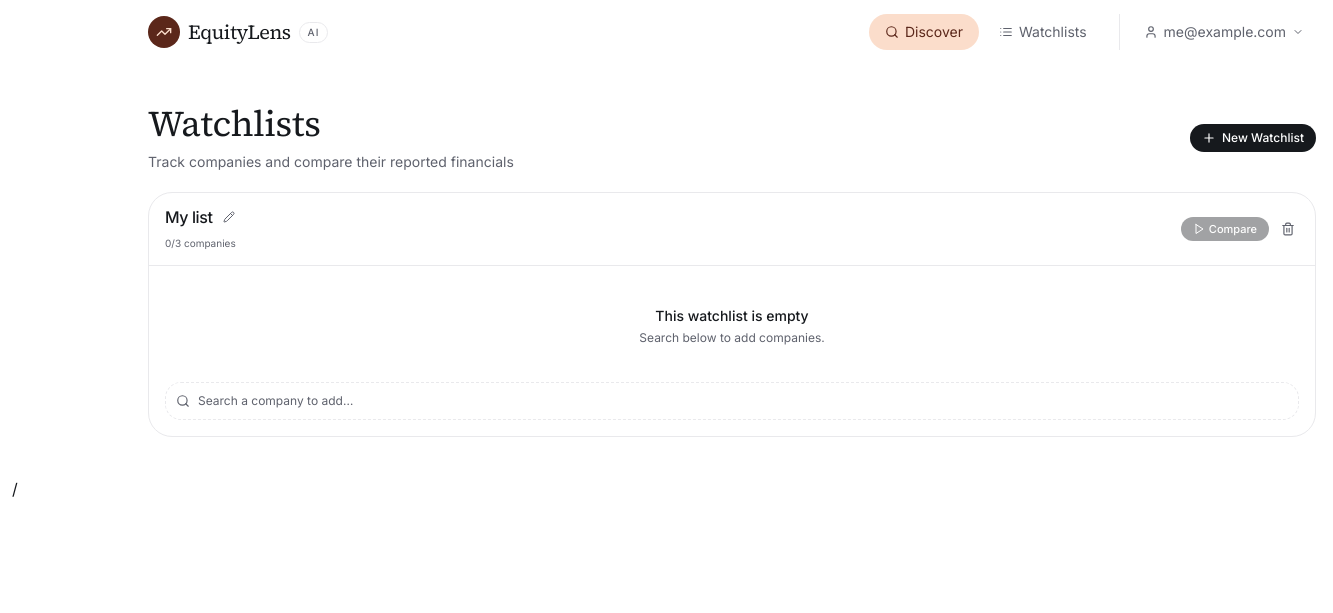
Test: WatchlistsPage › shows a clear error on duplicate add (409) and on the cap (422)
This screenshot has width=1333, height=613.
Expected: the text "This watchlist is empty" is shown, [655,307,809,324]
In the field with placeholder "Search a company to add…": (743, 401) [198,393,1288,409], type "acme"
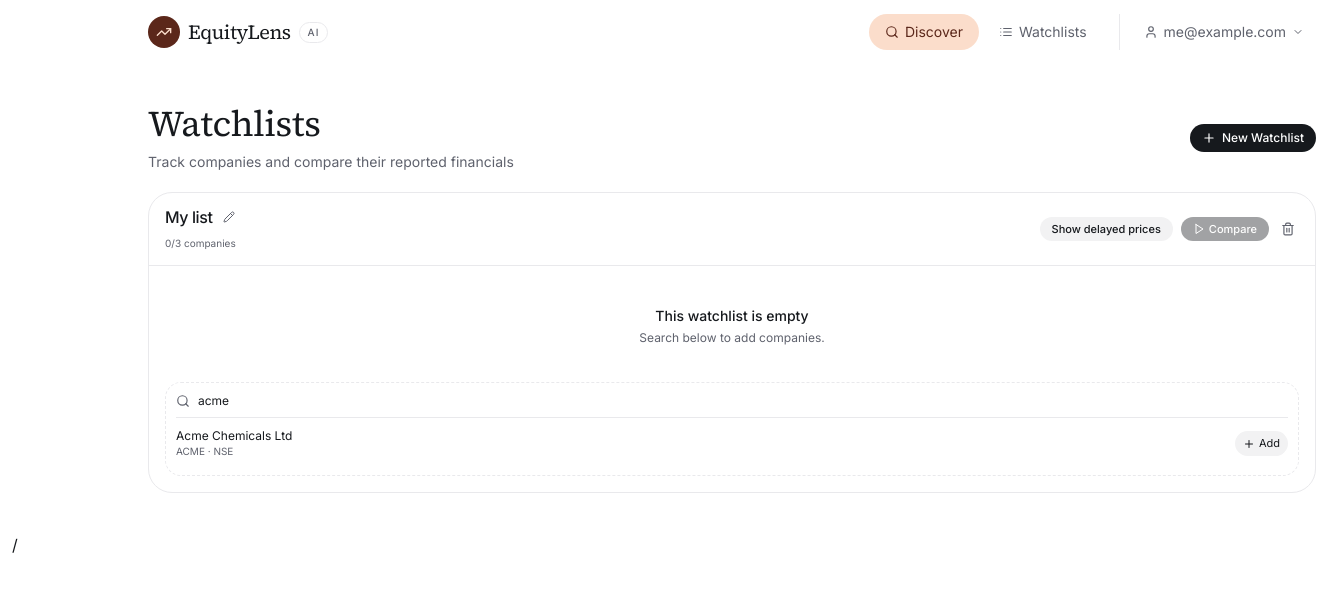
Click the button "Add": (1261, 444) [1235,431,1288,456]
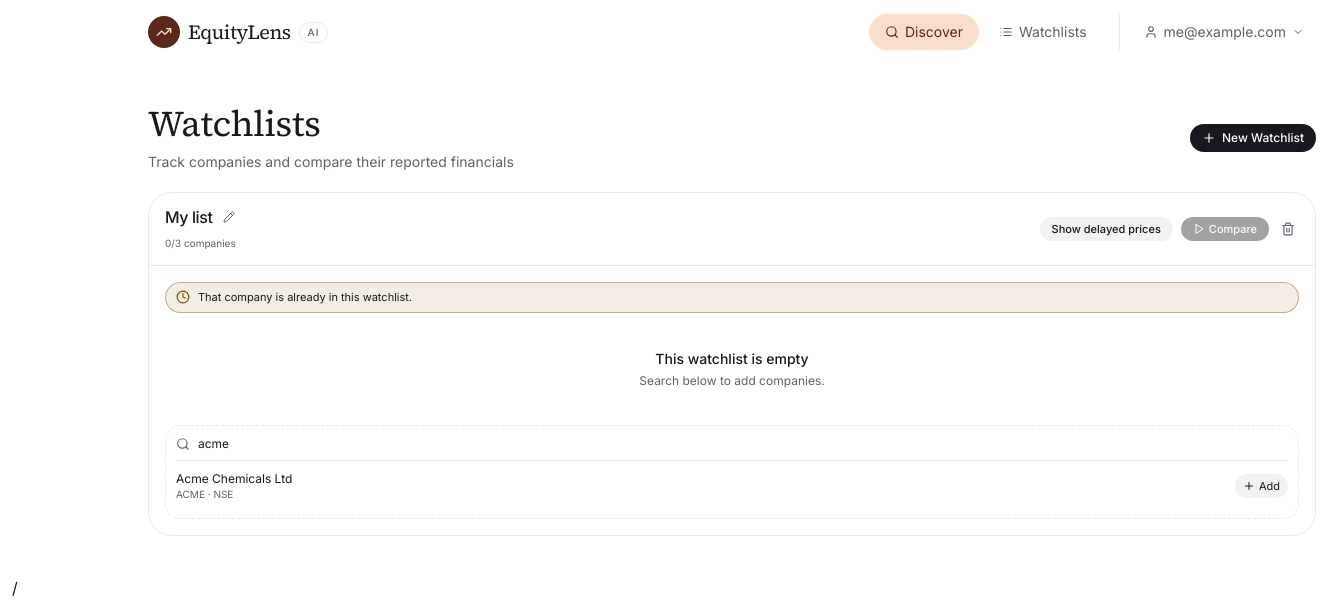
Expected: the text "That company is already in this watchlist." is shown, [198,289,412,306]
Click the button "Add": (1261, 486) [1235,474,1288,498]
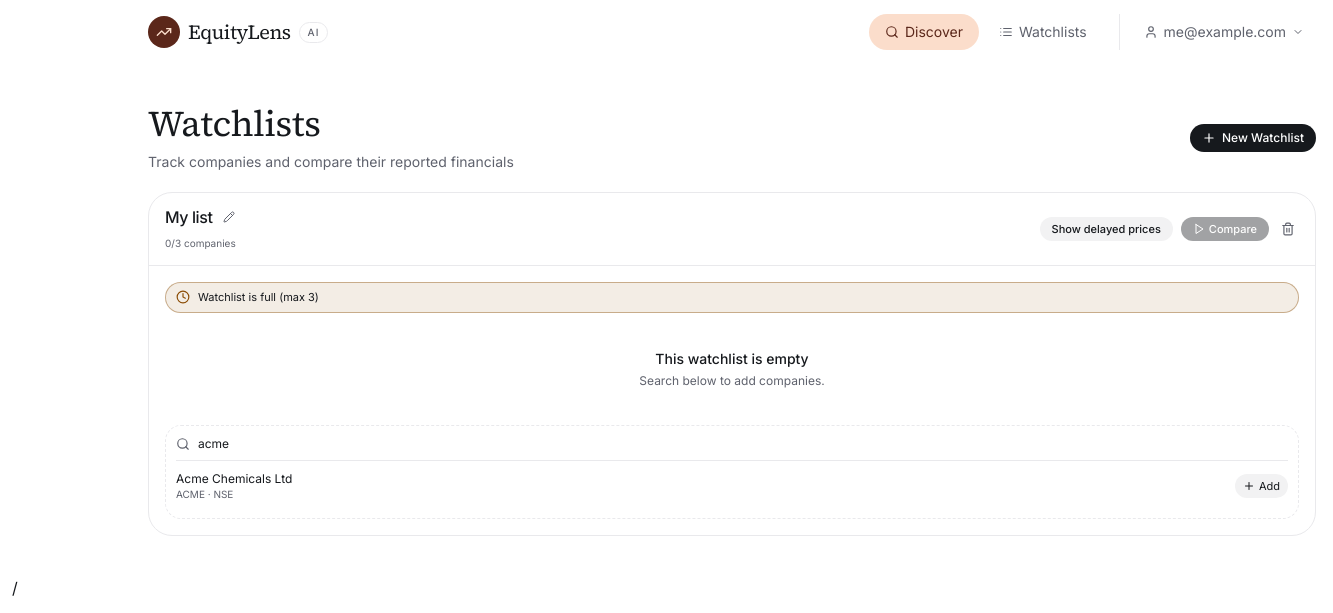
Expected: the text "Watchlist is full (max 3)" is shown, [198,289,319,306]
